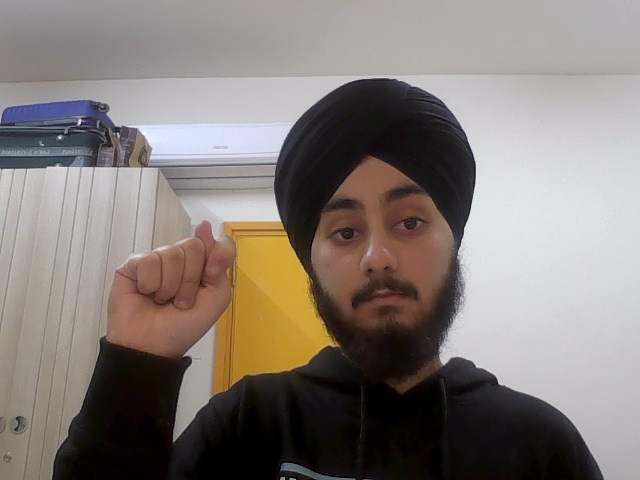Bathroom: (107, 220, 235, 355)
